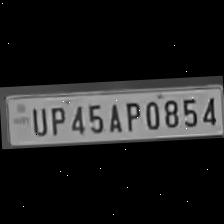0: (140, 96, 160, 130)
4: (198, 92, 218, 125), (66, 102, 86, 134)
5: (84, 100, 104, 134), (178, 94, 198, 128)
8: (160, 96, 180, 128)
A: (102, 99, 122, 134)
P: (45, 102, 66, 136), (120, 98, 140, 132)
U: (26, 104, 46, 136)
